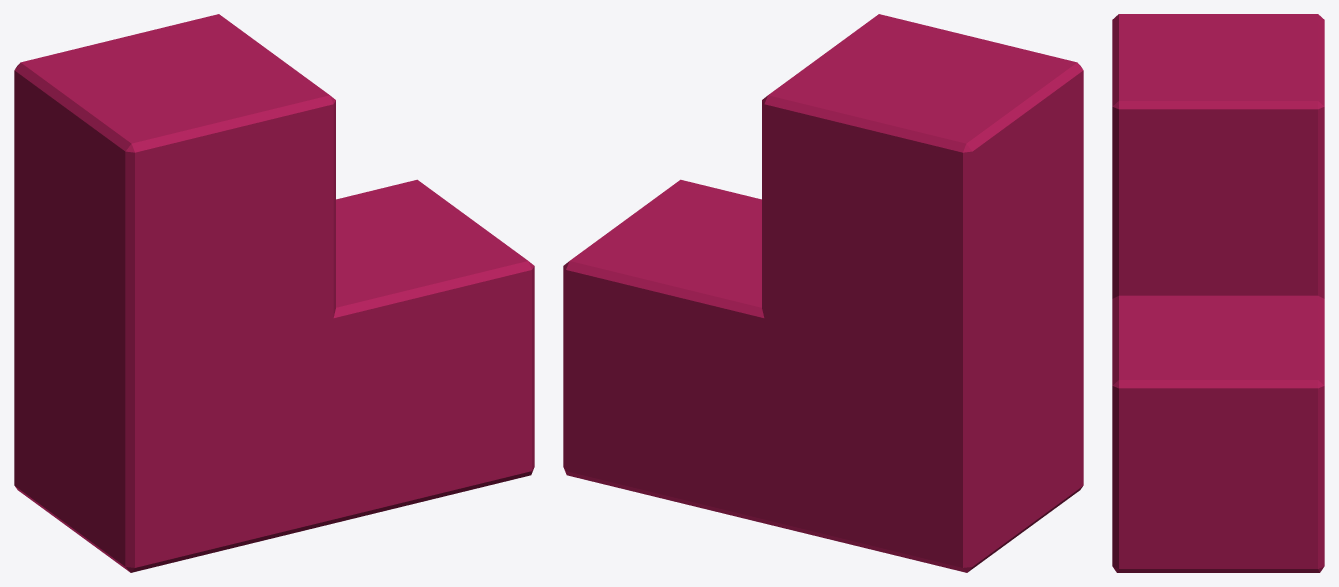
Rendered from Part_2Xup_simple.FBX.
3 renders of one model, left to right at view 1: azimuth 30°, elevation 25°; view 2: azimuth 150°, elevation 25°; view 3: azimuth 270°, elevation 25°, orthographic. The views are drawn at different scales.
Visible parts, largest first — view 1: Part_2Xup_simple; view 2: Part_2Xup_simple; view 3: Part_2Xup_simple.
Boxes of the visible parts, bbox=[...] form: Part_2Xup_simple: bbox=[14, 14, 534, 572]; Part_2Xup_simple: bbox=[563, 14, 1083, 572]; Part_2Xup_simple: bbox=[1112, 14, 1324, 572].
Bounding box in the file's own units: 200 × 100 × 200.
